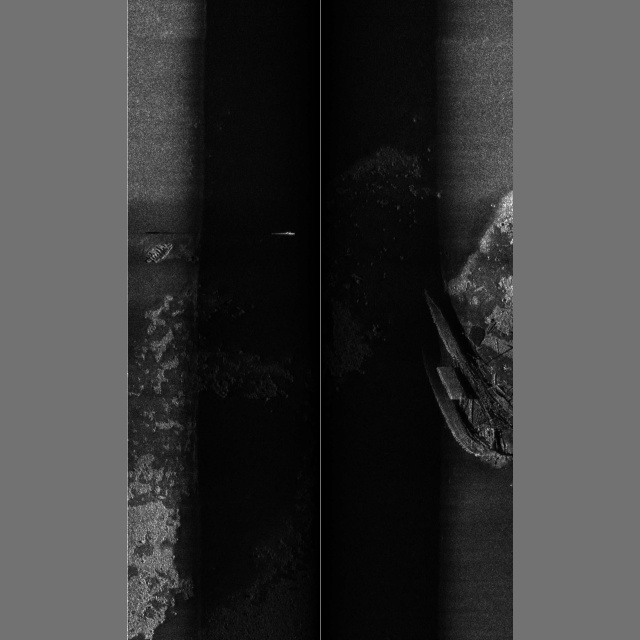Shipwreck: (422, 289, 513, 464)
